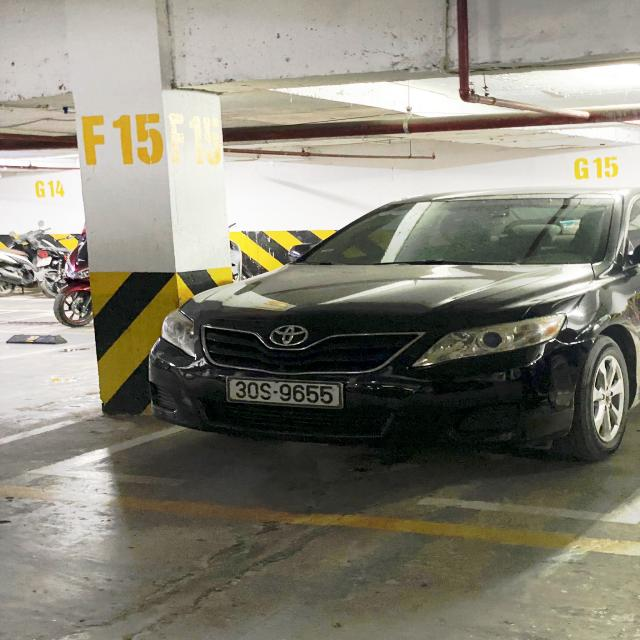license_plate: (220, 376, 351, 413)
